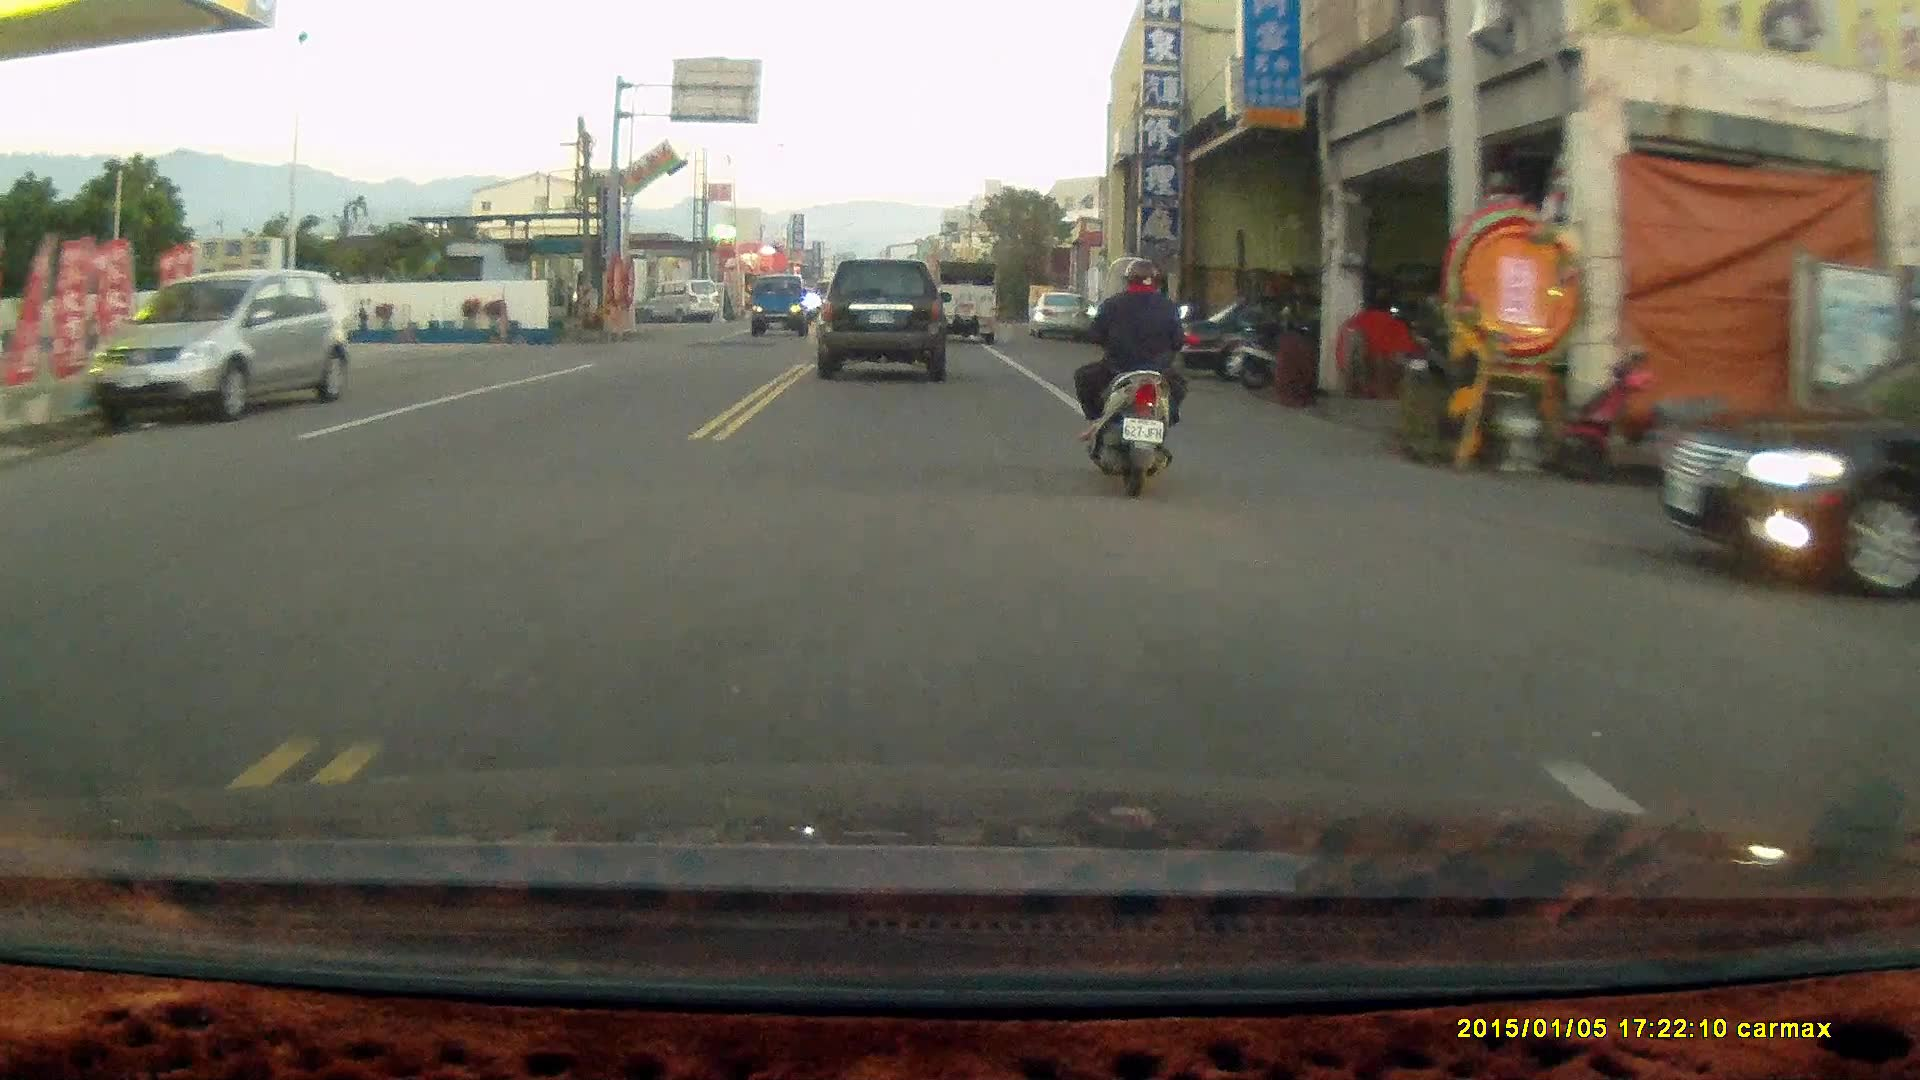rider: (1071, 256, 1184, 497)
vehicle: (1659, 353, 1920, 602), (75, 270, 353, 426), (1176, 289, 1394, 383), (814, 261, 953, 389), (928, 260, 1001, 345), (747, 275, 813, 339), (638, 282, 722, 326), (1029, 292, 1084, 342)
